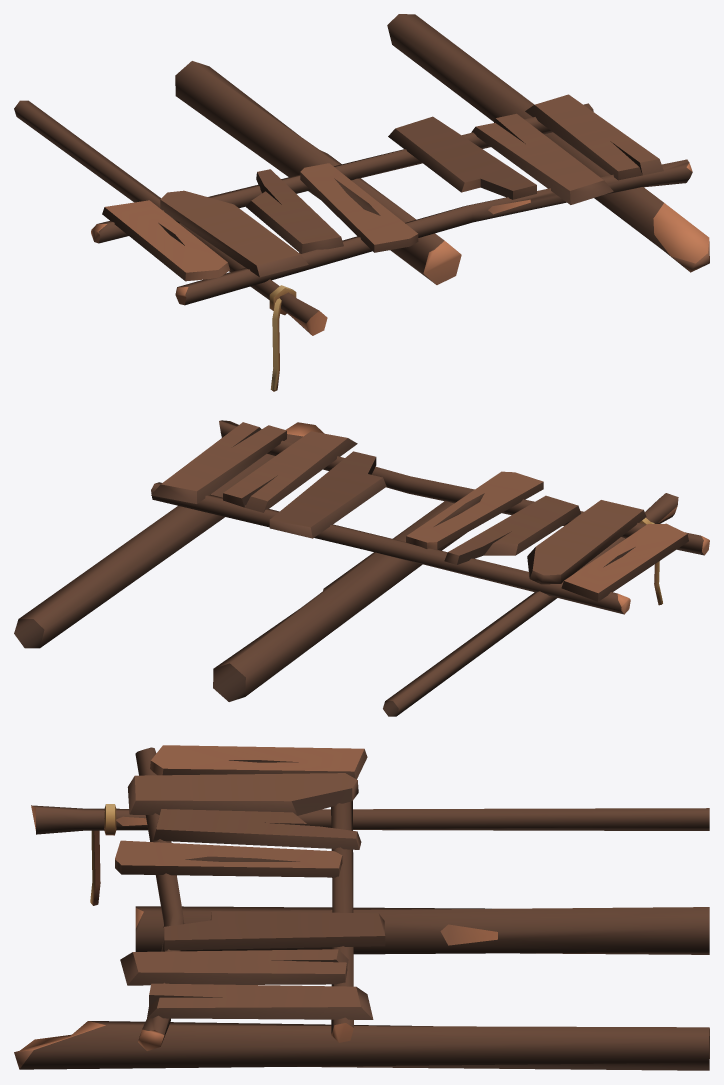
File: Suspended_Ramp_1B.fbx
The picture shows the model from 3 angles, top to bottom: view 1: azimuth 30°, elevation 25°; view 2: azimuth 150°, elevation 25°; view 3: azimuth 270°, elevation 25°; orthographic projection. The views are drawn at different scales.
Visible parts, largest first — view 1: Suspended_Ramp_1B; view 2: Suspended_Ramp_1B; view 3: Suspended_Ramp_1B.
Part boxes in pixels (<box>): Suspended_Ramp_1B: <box>14,14,709,391</box>; Suspended_Ramp_1B: <box>14,420,709,716</box>; Suspended_Ramp_1B: <box>14,745,709,1070</box>.
Size of the model in its own units: 6 by 1.27 by 6.17.
